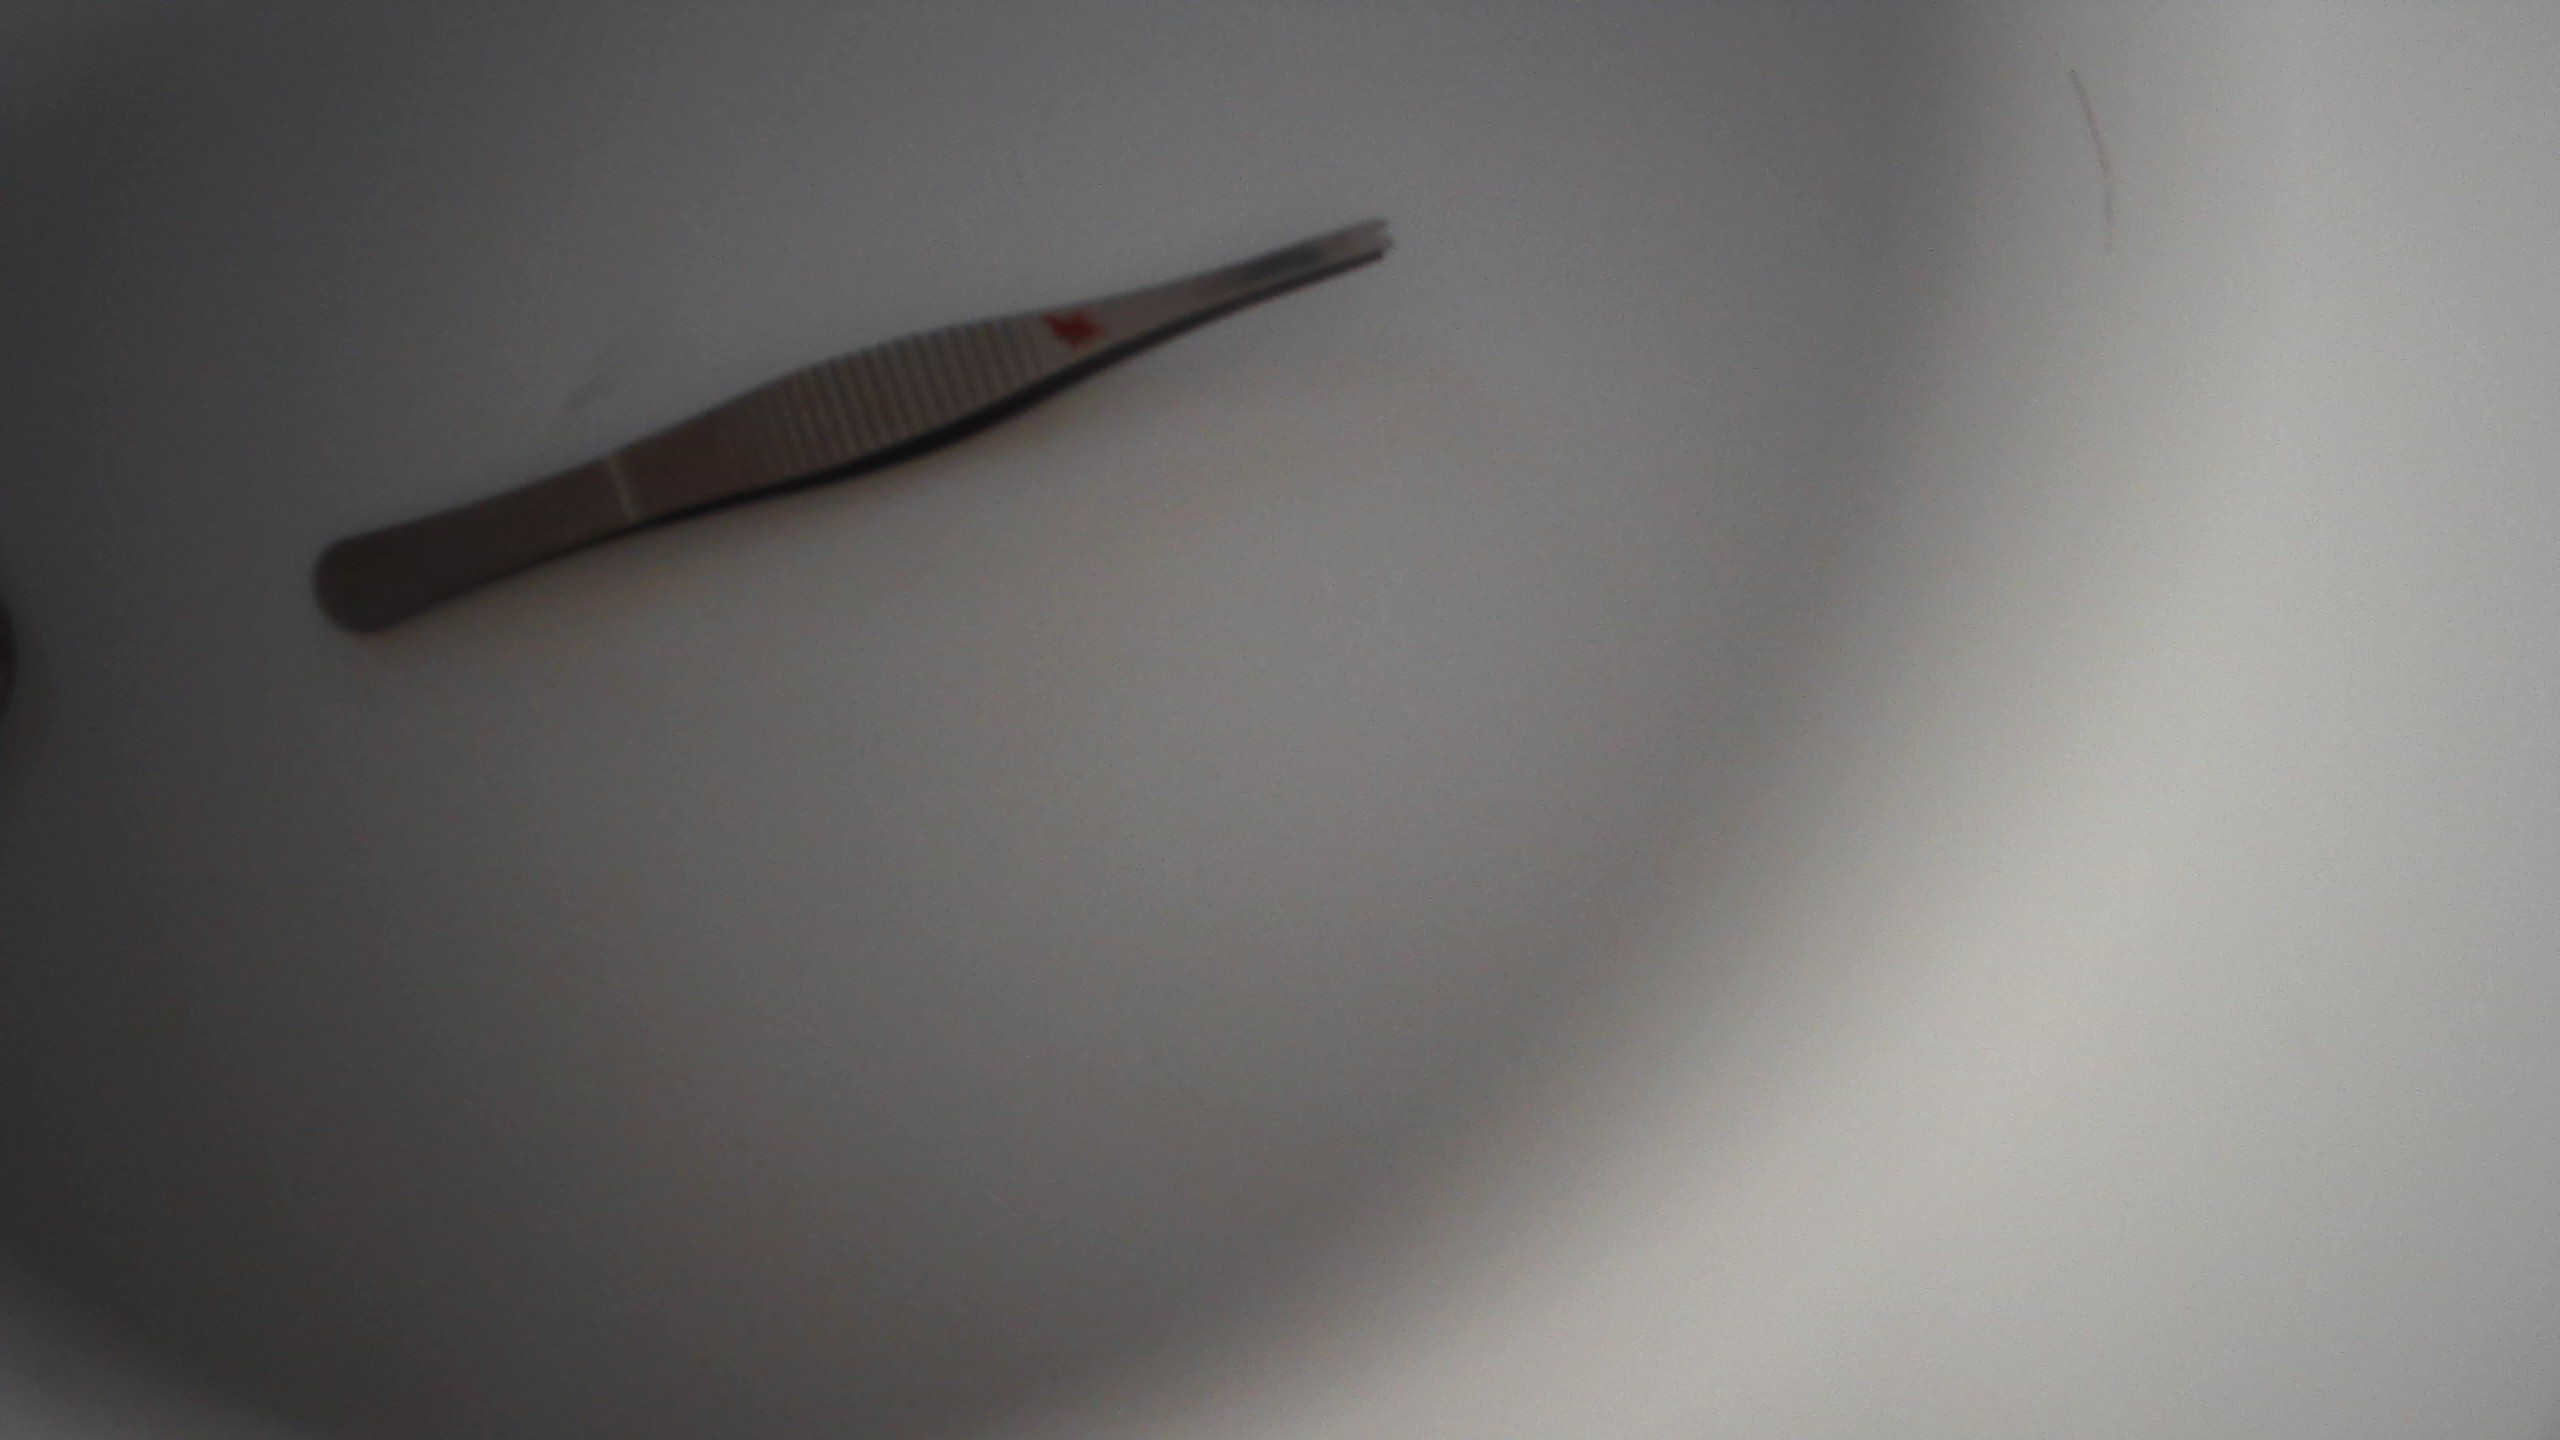Stain: (1037, 306, 1104, 350)
